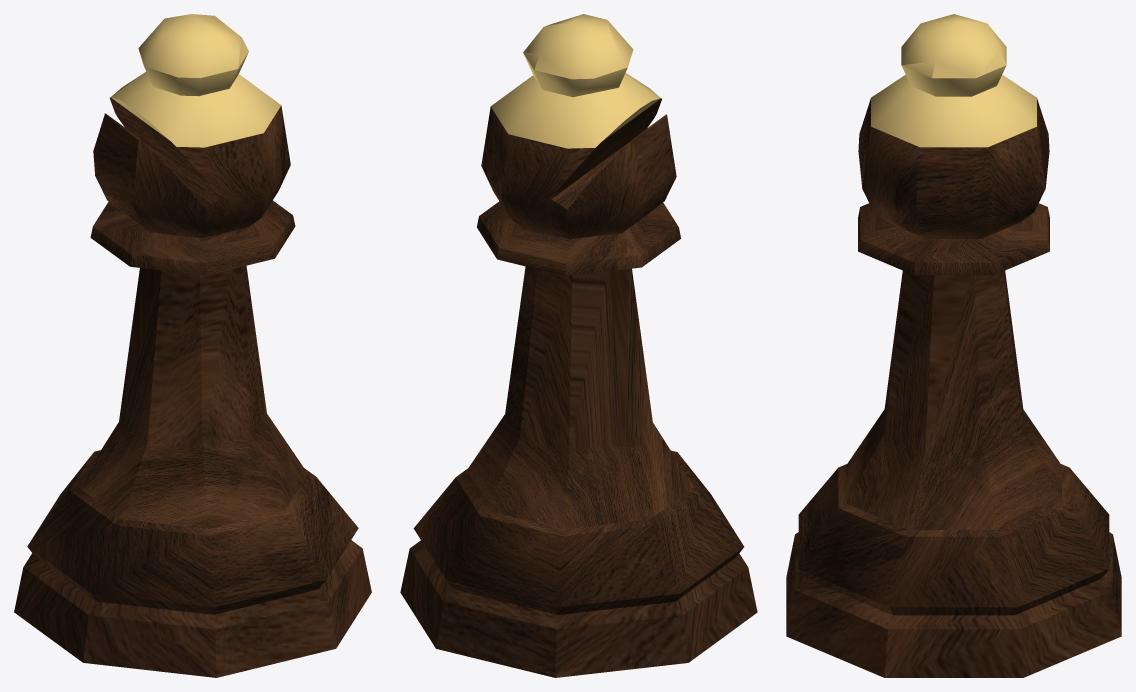
The model's file is gercek4_b_b.glb.
3 renders of one model, left to right at view 1: azimuth 30°, elevation 25°; view 2: azimuth 150°, elevation 25°; view 3: azimuth 270°, elevation 25°, orthographic.
Visible parts, largest first — view 1: b; view 2: b; view 3: b.
Part boxes in pixels (x1,y1,x2,y2): b: [14, 14, 371, 677]; b: [400, 14, 757, 677]; b: [786, 14, 1121, 677].
Size of the model in its own units: 0.466 by 0.9 by 0.466.
Materials: 2 (1 with a texture image).
